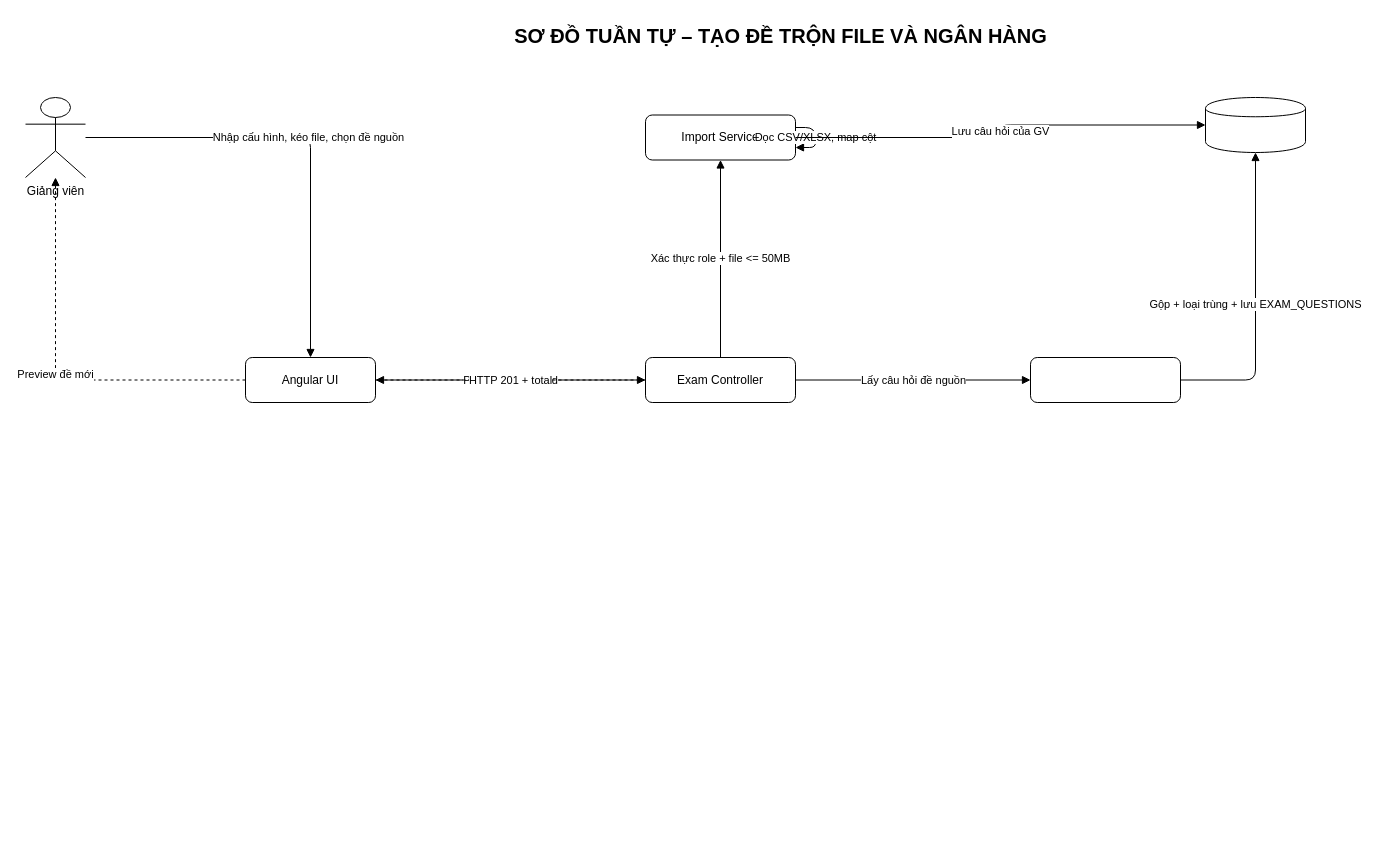
Image size: 1378x855. Some labels were removed from this diagram. Each missing label, with the box of its shape:
Exam Service: (1030, 356, 1180, 402)
MySQL: (1204, 96, 1306, 152)
